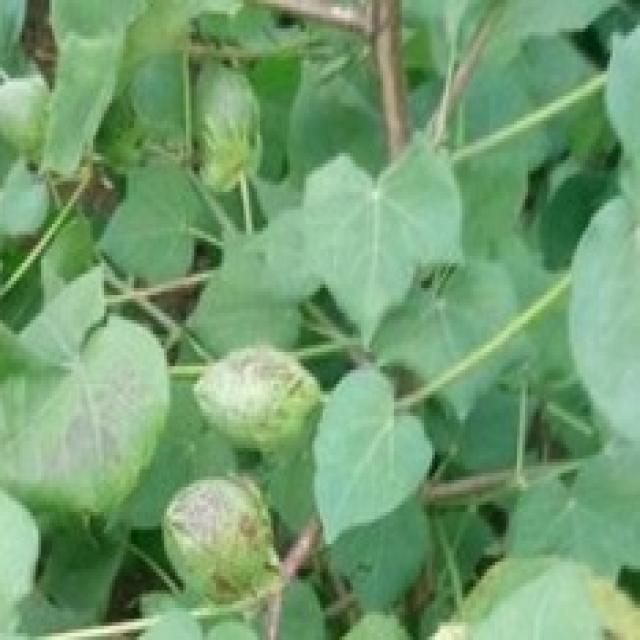Healthy Leaf: (10, 13, 640, 546)
